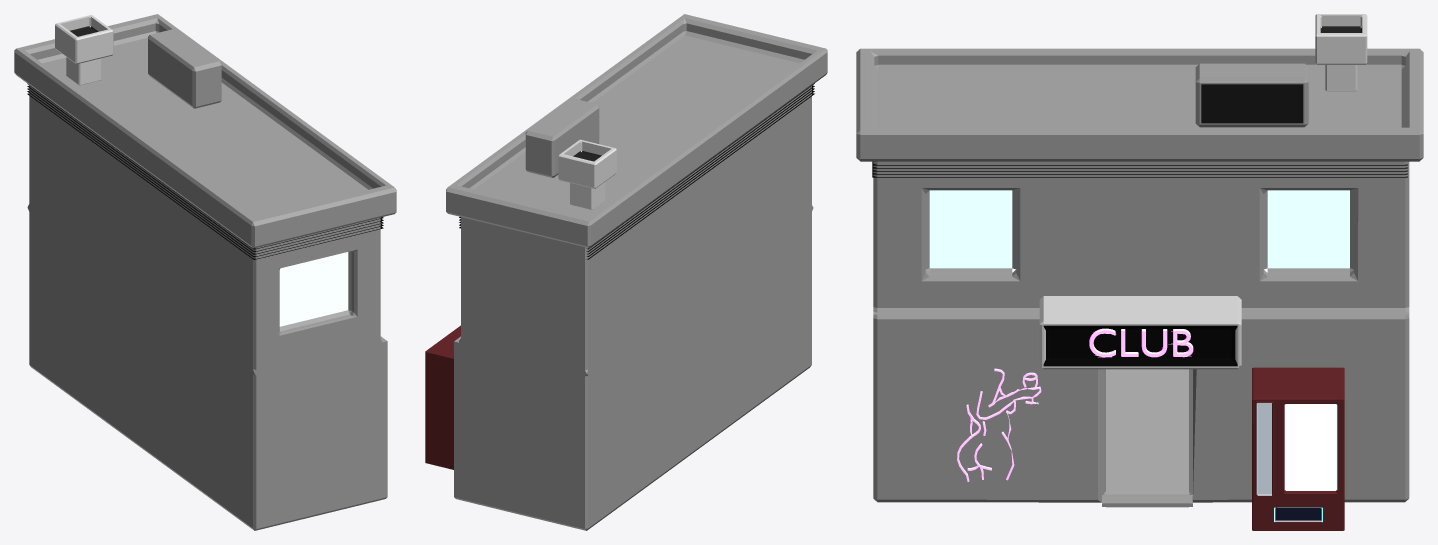
File: club_cycles.glb
The picture shows the model from 3 angles, left to right: view 1: azimuth 30°, elevation 25°; view 2: azimuth 150°, elevation 25°; view 3: azimuth 270°, elevation 25°; orthographic projection. The views are drawn at different scales.
Parts seen in each view (by area): view 1: Plane_0, Plane.005_8, Cube.001_9, Plane.001_1; view 2: Plane_0, Plane.004_7, Plane.005_8, Cube.001_9, Plane.001_1; view 3: Plane_0, Plane.004_7, Plane.002_2, Plane.005_8, Cube.001_9, Plane.001_1, Cube_4, Text.001_10.
Part boxes in pixels (<box>): Plane_0: <box>14,14,396,530</box>; Plane.005_8: <box>148,28,221,108</box>; Cube.001_9: <box>55,15,113,85</box>; Plane.001_1: <box>27,83,383,259</box>; Plane_0: <box>446,14,827,530</box>; Plane.004_7: <box>425,325,460,469</box>; Plane.005_8: <box>525,98,599,177</box>; Cube.001_9: <box>558,139,616,209</box>; Plane.001_1: <box>459,83,814,259</box>; Plane_0: <box>856,48,1423,507</box>; Plane.004_7: <box>1252,367,1344,530</box>; Plane.002_2: <box>1039,296,1241,369</box>; Plane.005_8: <box>1195,63,1308,127</box>; Cube.001_9: <box>1315,14,1367,91</box>; Plane.001_1: <box>872,161,1407,177</box>; Cube_4: <box>957,368,1041,481</box>; Text.001_10: <box>1089,328,1193,357</box>.
Size of what is drawn, in the model's own units: 2.03 by 3.49 by 4.23.
